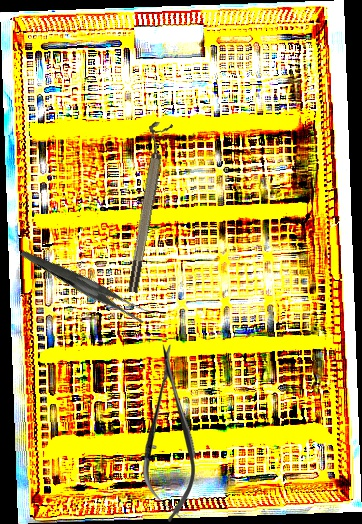Dressing Forceps: (20, 217, 152, 351)
Fixation Ring: (117, 120, 174, 294)
Micro Scissor: (142, 343, 197, 523)
